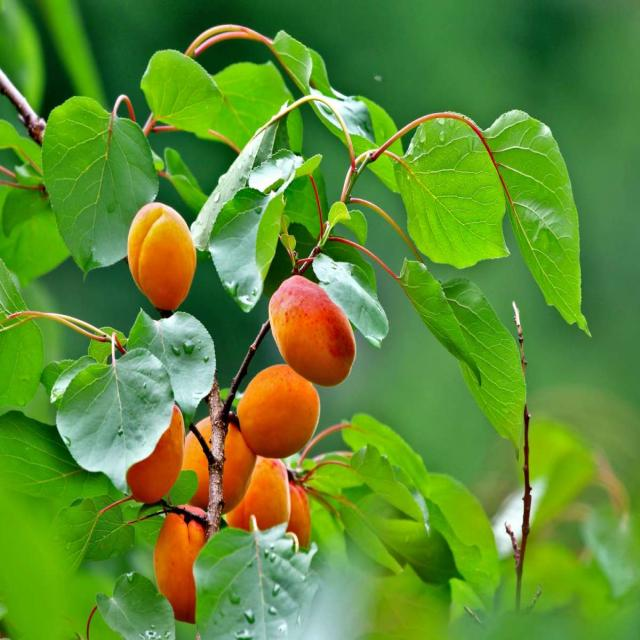Kayisi: (237, 364, 319, 458)
Yaprak: (484, 110, 589, 334), (42, 97, 159, 274), (387, 119, 508, 268), (56, 349, 174, 491)
